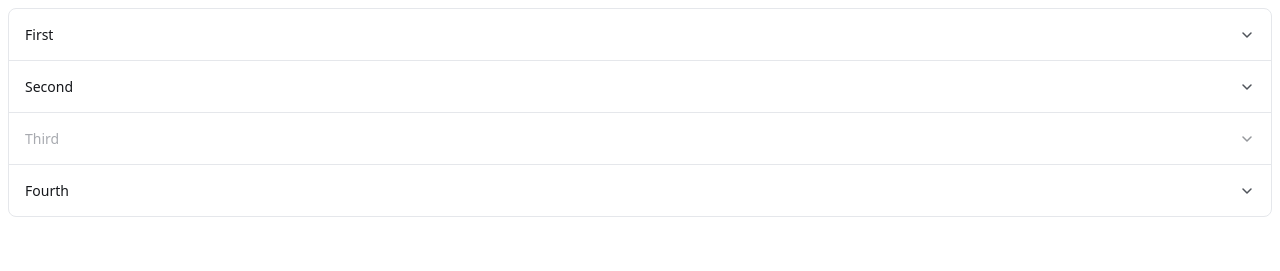
it: Accordion › starts closed and opens on click
Expected: the text "First panel" is not shown
Click the button "First".
click(39, 34)  # box [9,9,1271,60]
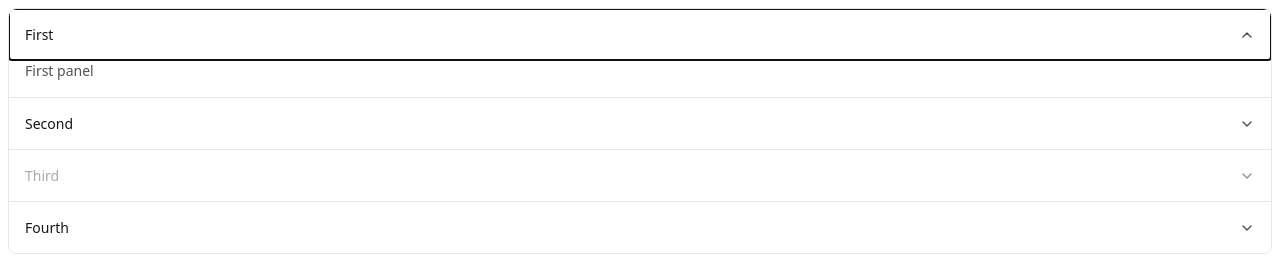
Expected: the text "First panel" is shown, [25,61,94,80]
Expected: the button "First" is expanded, [9,9,1271,60]
